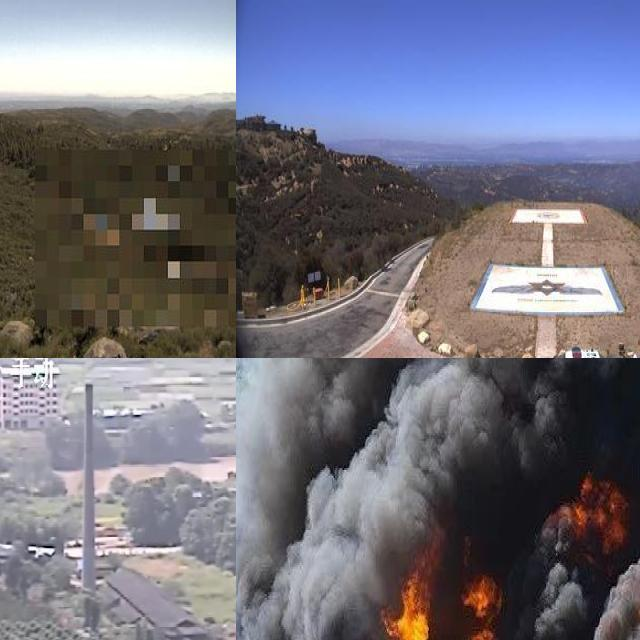fire: (380, 561, 511, 640)
smoke: (236, 358, 640, 640)
